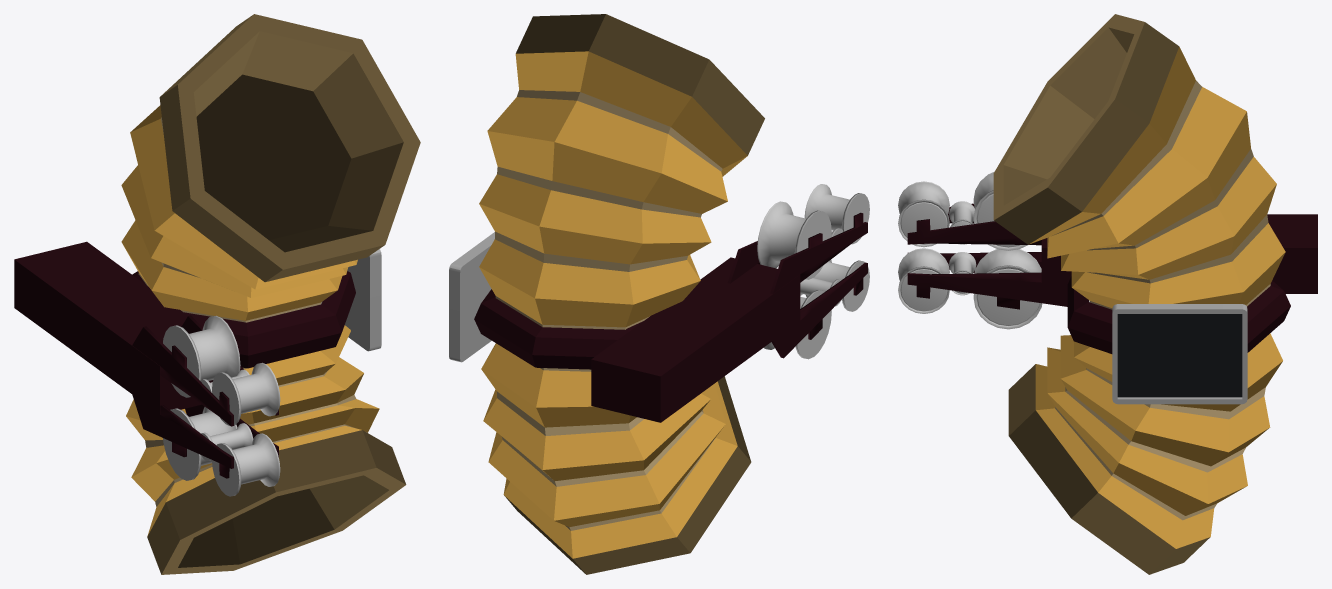
File: PlayerAnimation_Move_Right.fbx
3 renders of one model, left to right at view 1: azimuth 30°, elevation 25°; view 2: azimuth 150°, elevation 25°; view 3: azimuth 270°, elevation 25°, orthographic. The views are drawn at different scales.
Parts seen in each view (by area): view 1: Original; view 2: Original; view 3: Original.
Boxes of the visible parts, box(x1,y1,x2,y2) form: Original: box(14, 14, 420, 574); Original: box(449, 14, 869, 574); Original: box(898, 14, 1317, 574).
Size of the model in its own units: 227 by 471 by 331.
